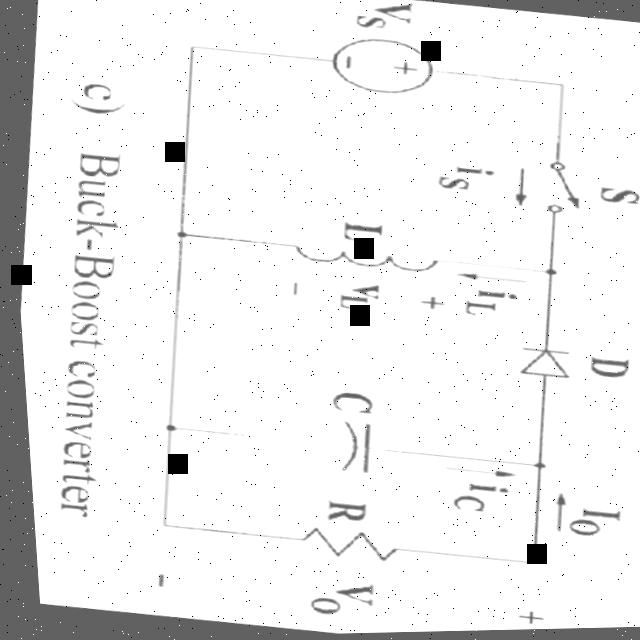capacitor: (304, 409, 407, 486)
diode: (499, 329, 577, 396)
inductor: (279, 220, 452, 295)
node: (164, 225, 196, 250), (531, 263, 558, 286), (153, 418, 180, 437), (520, 457, 545, 475)
resistor: (261, 492, 422, 585)
source: (312, 20, 453, 123)
switch: (504, 144, 594, 239)
